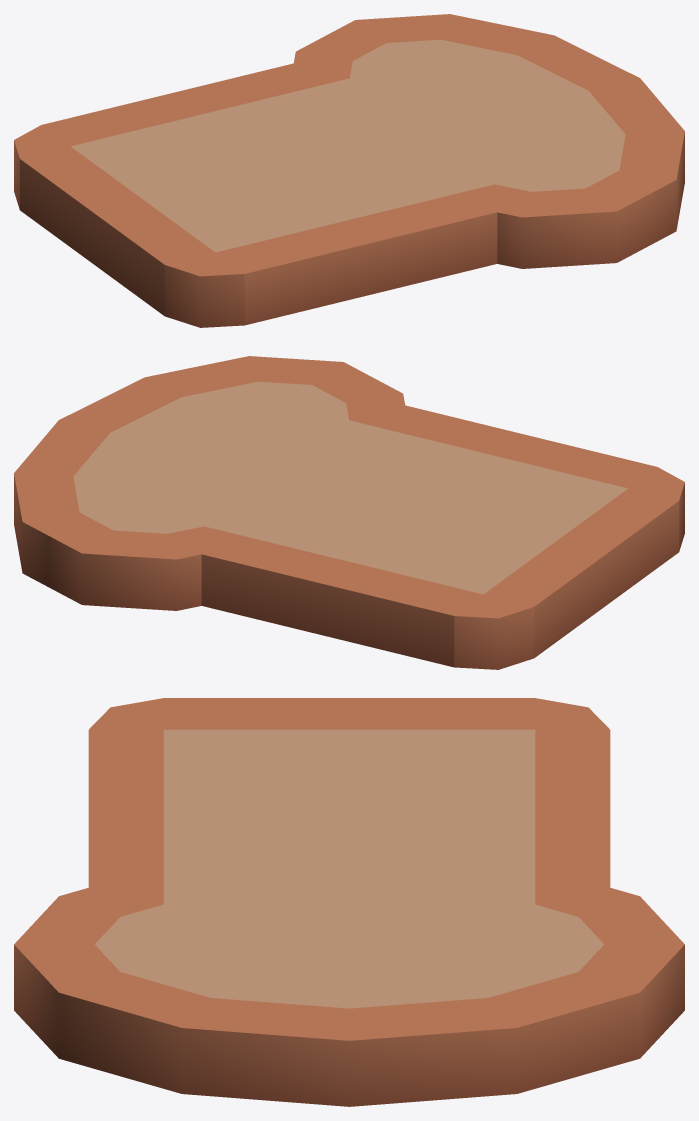
Rendered from bread.glb.
3 views of the same model, one above another, from view 1: azimuth 30°, elevation 25°; view 2: azimuth 150°, elevation 25°; view 3: azimuth 270°, elevation 25° (orthographic). The views are drawn at different scales.
Visible parts, largest first — view 1: bread-2; view 2: bread-2; view 3: bread-2.
Part boxes in pixels (left/top/right/bottom): bread-2: left=14, top=14, right=684, bottom=327; bread-2: left=14, top=356, right=684, bottom=669; bread-2: left=14, top=698, right=684, bottom=1106.
Size of the model in its own units: 0.4423 by 0.0397 by 0.3659.
